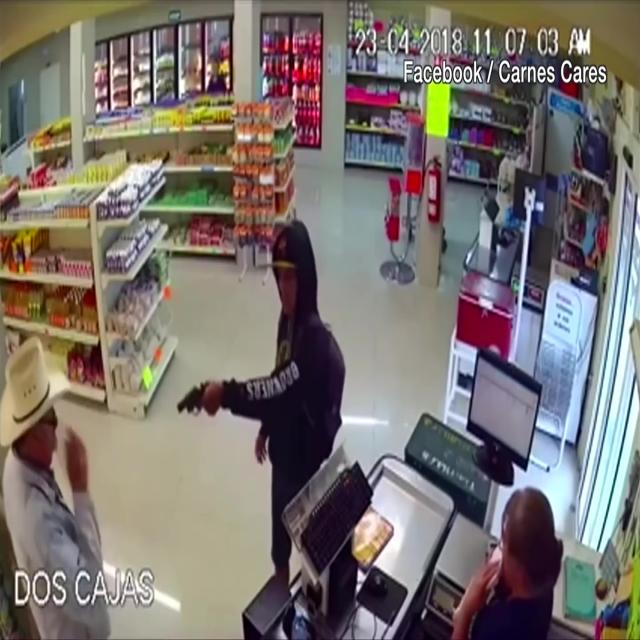Weapon: (166, 365, 248, 454)
